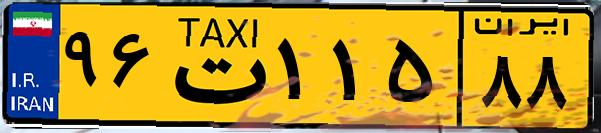1: (270, 28, 330, 110), (330, 28, 385, 110)
5: (385, 28, 445, 110)
6: (110, 28, 158, 98)
8: (475, 38, 525, 113), (525, 38, 570, 115)
9: (57, 26, 110, 100)
ت: (158, 12, 270, 120)
